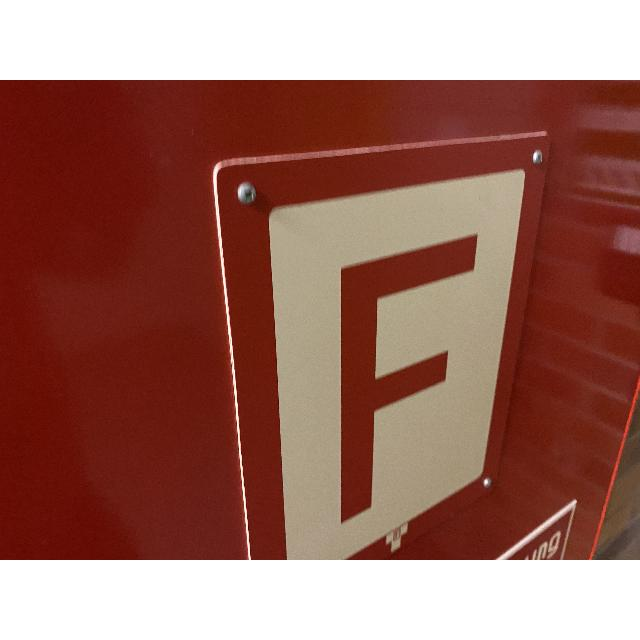fire extinguisher: (214, 132, 550, 560)
